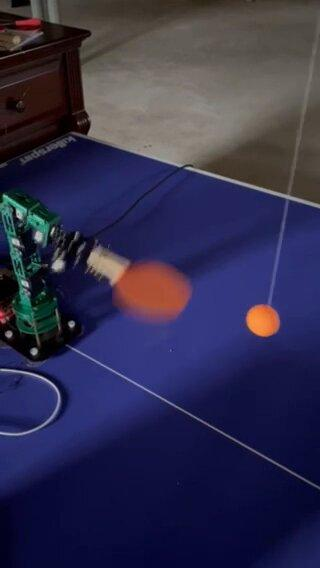oball: (247, 303, 280, 336)
